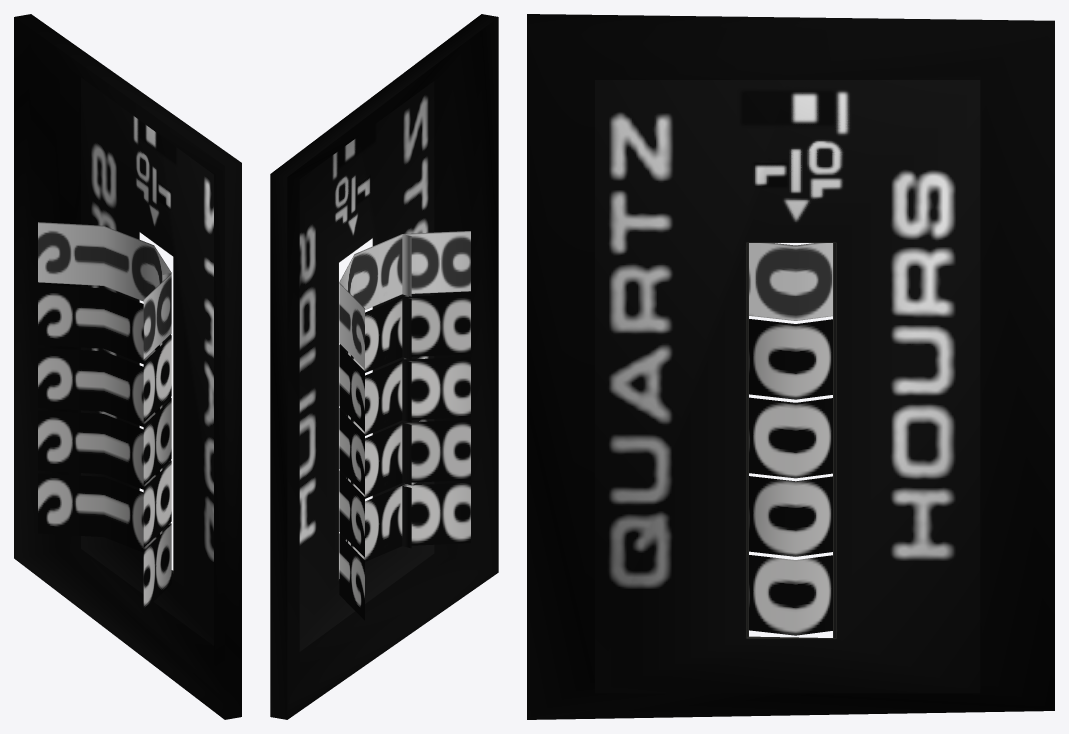
The model's file is hobbs-fg1000.gltf.
3 renders of one model, left to right at view 1: azimuth 30°, elevation 25°; view 2: azimuth 150°, elevation 25°; view 3: azimuth 270°, elevation 25°, orthographic. The views are drawn at different scales.
Parts seen in each view (by area): view 1: Base, Drum.0, Drum.4, Drum.2, Drum.3, Drum.1; view 2: Base, Drum.0, Drum.1, Drum.2, Drum.4, Drum.3; view 3: Base, Drum.1, Drum.2, Drum.4, Drum.3, Drum.0.
Boxes of the visible parts, bbox=[...] form: Base: bbox=[14, 14, 241, 719]; Drum.0: bbox=[38, 222, 171, 359]; Drum.4: bbox=[38, 473, 171, 610]; Drum.2: bbox=[38, 347, 171, 484]; Drum.3: bbox=[38, 410, 171, 547]; Drum.1: bbox=[38, 285, 171, 421]; Base: bbox=[270, 14, 498, 719]; Drum.0: bbox=[339, 231, 470, 368]; Drum.1: bbox=[339, 293, 470, 431]; Drum.2: bbox=[339, 357, 470, 494]; Drum.4: bbox=[339, 482, 470, 620]; Drum.3: bbox=[339, 419, 470, 557]; Base: bbox=[527, 14, 1054, 719]; Drum.1: bbox=[749, 319, 832, 399]; Drum.2: bbox=[749, 397, 832, 478]; Drum.4: bbox=[749, 555, 832, 635]; Drum.3: bbox=[749, 476, 832, 556]; Drum.0: bbox=[749, 243, 832, 320].
Bounding box in the file's own units: 0.00559 × 0.0465 × 0.032.
Materials: 1 (1 with a texture image).
